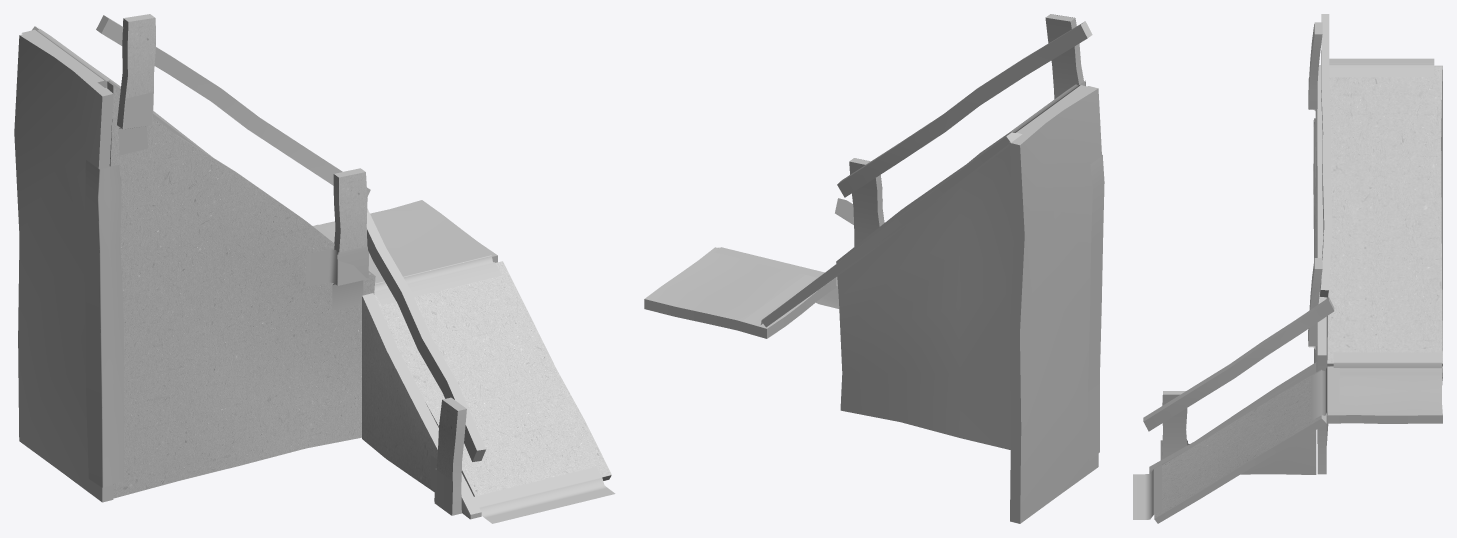
File: MainStairsTest.fbx
The picture shows the model from 3 angles, left to right: view 1: azimuth 30°, elevation 25°; view 2: azimuth 150°, elevation 25°; view 3: azimuth 270°, elevation 25°; orthographic projection. The views are drawn at different scales.
Visible parts, largest first — view 1: MainStairsExport; view 2: MainStairsExport; view 3: MainStairsExport.
Boxes of the visible parts, bbox=[...] form: MainStairsExport: bbox=[14, 14, 615, 523]; MainStairsExport: bbox=[644, 14, 1104, 523]; MainStairsExport: bbox=[1133, 14, 1442, 523].
Bounding box in the file's own units: 312 × 348 × 268.
